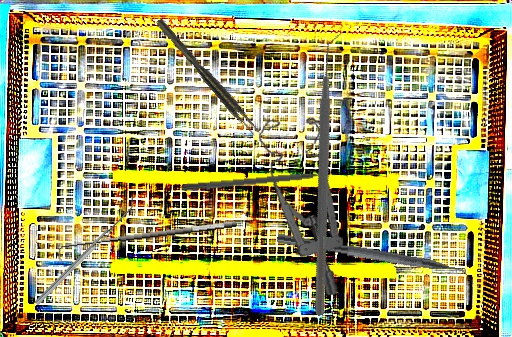Chopper: (201, 30, 463, 317), (274, 233, 477, 288)
Hook Surgical: (54, 218, 239, 264)
Pusher: (180, 170, 343, 193)
Spatula Surgical: (30, 195, 141, 306)
Speculum: (238, 110, 362, 298)
Tissue Forceps: (155, 15, 262, 139)
